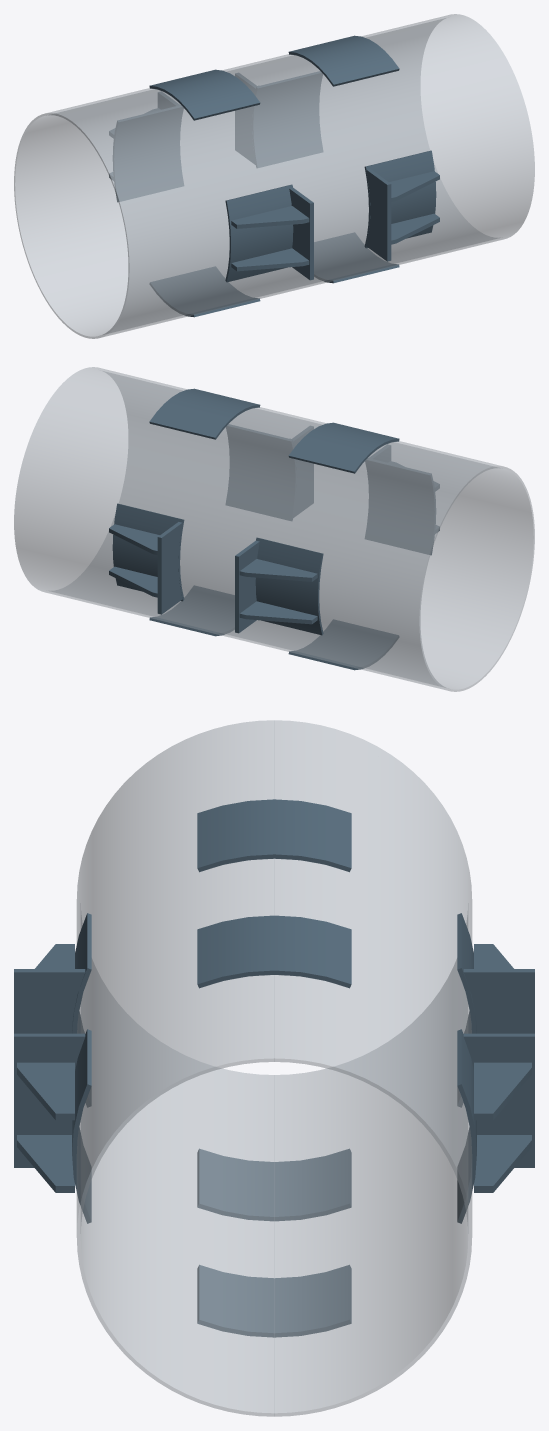
Rendered from TS-663.00.00-08-opora-dn820.glb.
The picture shows the model from 3 angles, top to bottom: view 1: azimuth 30°, elevation 25°; view 2: azimuth 150°, elevation 25°; view 3: azimuth 270°, elevation 25°; orthographic projection. The views are drawn at different scales.
Parts seen in each view (by area): view 1: truba, det_16, det_12, det_8, det_18, det_17, det_20, det_4, det_19, det_1, det_5, det_6 (+4 smaller); view 2: truba, det_8, det_4, det_16, det_18, det_17, det_20, det_12, det_19, det_9, det_13, det_15 (+4 smaller); view 3: truba, det_17, det_18, det_19, det_20, det_1, det_9, det_5, det_13, det_2, det_11, det_4 (+5 smaller).
Boxes of the visible parts, <box> form: truba: <box>14,14,534,338</box>; det_16: <box>113,105,183,202</box>; det_12: <box>252,71,322,167</box>; det_8: <box>225,184,293,282</box>; det_18: <box>149,69,260,120</box>; det_17: <box>288,35,399,86</box>; det_20: <box>150,266,260,317</box>; det_4: <box>364,150,436,248</box>; det_19: <box>314,232,399,283</box>; det_1: <box>366,169,391,261</box>; det_5: <box>289,187,313,280</box>; det_6: <box>231,206,309,228</box>; truba: <box>14,367,534,691</box>; det_8: <box>365,458,435,555</box>; det_4: <box>226,424,296,520</box>; det_16: <box>255,537,323,635</box>; det_18: <box>288,422,399,473</box>; det_17: <box>149,388,260,439</box>; det_20: <box>288,619,398,670</box>; det_12: <box>112,503,184,601</box>; det_19: <box>149,585,234,636</box>; det_9: <box>157,522,182,614</box>; det_13: <box>235,540,259,633</box>; det_15: <box>239,559,317,581</box>; truba: <box>76,720,472,1416</box>; det_17: <box>197,915,351,988</box>; det_18: <box>197,799,351,872</box>; det_19: <box>197,1265,351,1337</box>; det_20: <box>197,1148,351,1221</box>; det_1: <box>14,1033,85,1167</box>; det_9: <box>463,1033,534,1167</box>; det_5: <box>14,969,85,1033</box>; det_13: <box>463,969,534,1033</box>; det_2: <box>17,1062,74,1120</box>; det_11: <box>474,1062,531,1120</box>; det_4: <box>72,1029,91,1223</box>.
Size of the model in its own units: 1660 by 840 by 1081.
